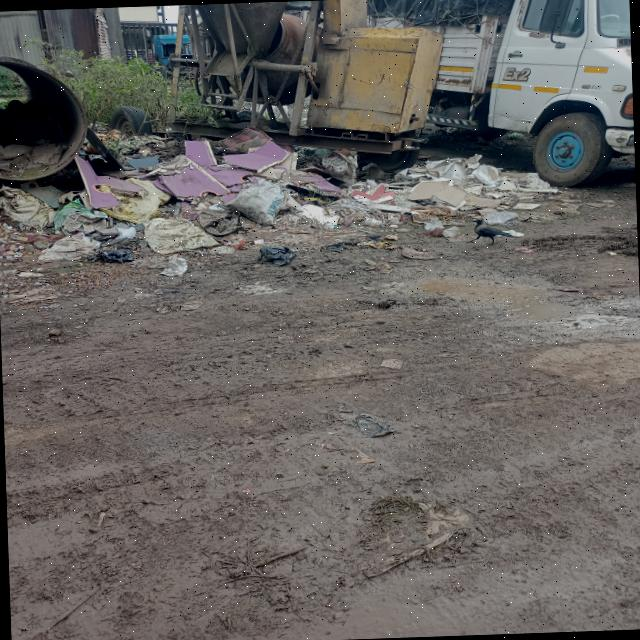garbage: (0, 128, 329, 255), (328, 153, 546, 236)
